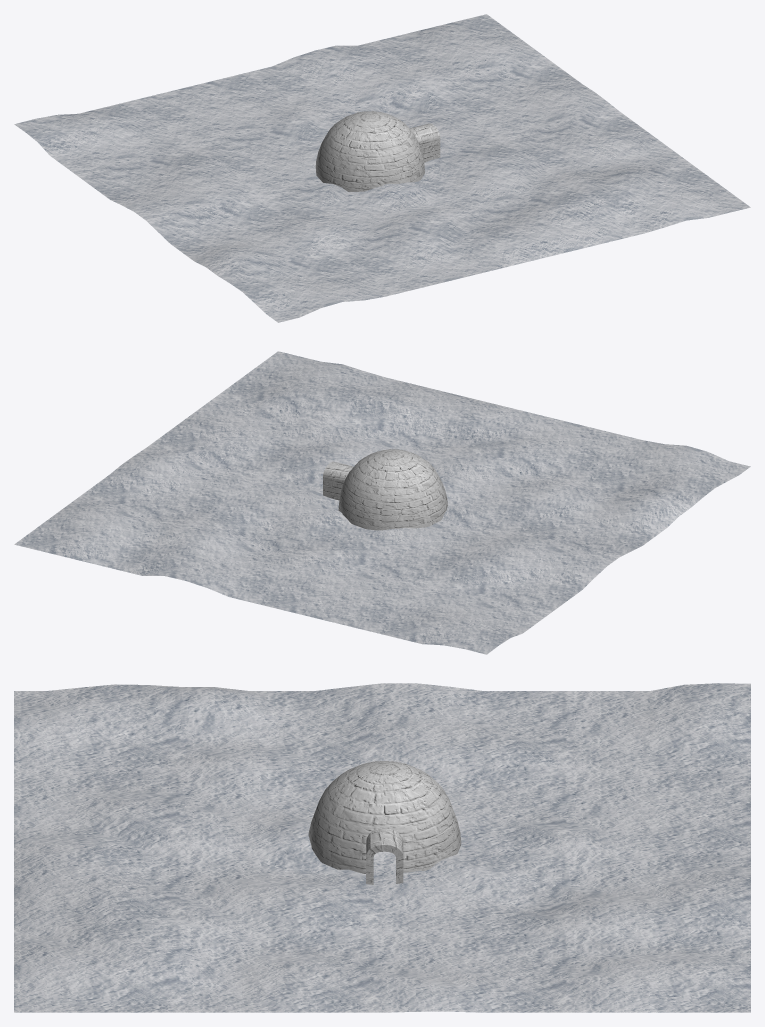
Rendered from igloo.obj.
The picture shows the model from 3 angles, top to bottom: view 1: azimuth 30°, elevation 25°; view 2: azimuth 150°, elevation 25°; view 3: azimuth 270°, elevation 25°; orthographic projection. The views are drawn at different scales.
Parts seen in each view (by area): view 1: pPlane1, polySurface2 polySurface1, pCube1; view 2: pPlane1, polySurface2 polySurface1, pCube1; view 3: pPlane1, polySurface2 polySurface1, pCube1.
Boxes of the visible parts, bbox=[...] form: pPlane1: bbox=[14, 14, 750, 322]; polySurface2 polySurface1: bbox=[315, 111, 424, 191]; pCube1: bbox=[409, 123, 440, 162]; pPlane1: bbox=[14, 351, 750, 654]; polySurface2 polySurface1: bbox=[338, 449, 447, 530]; pCube1: bbox=[323, 461, 353, 500]; pPlane1: bbox=[14, 683, 750, 1012]; polySurface2 polySurface1: bbox=[308, 761, 461, 873]; pCube1: bbox=[366, 829, 403, 884].
Size of the model in its own units: 43.72 by 5.3 by 42.29.
2 materials, 2 textured.
